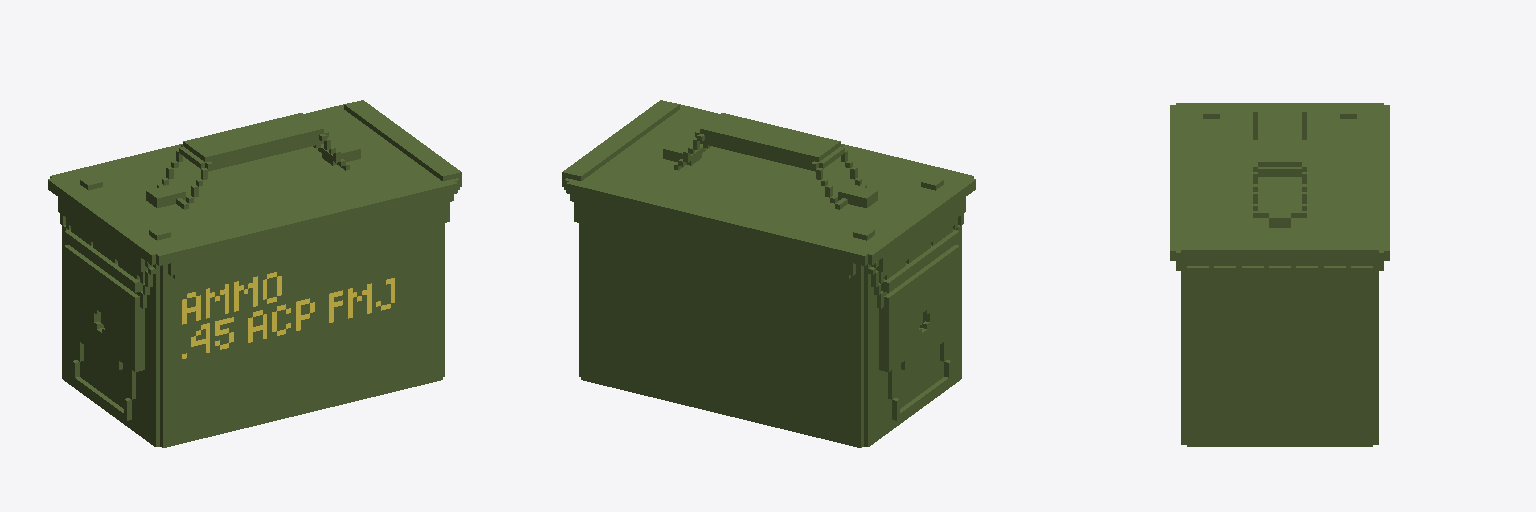
The picture shows the model from 3 angles: view 1: azimuth 30°, elevation 25°; view 2: azimuth 150°, elevation 25°; view 3: azimuth 270°, elevation 25°; orthographic projection.
Parts seen in each view (by area): view 1: object 1; view 2: object 1; view 3: object 1.
Part boxes in pixels (x1,y1,x2,y2): object 1: (48, 100, 461, 447); object 1: (562, 100, 975, 447); object 1: (1170, 103, 1389, 446).
Size of the model in its own units: 6.6 by 4.9 by 4.
1 materials, 1 textured.